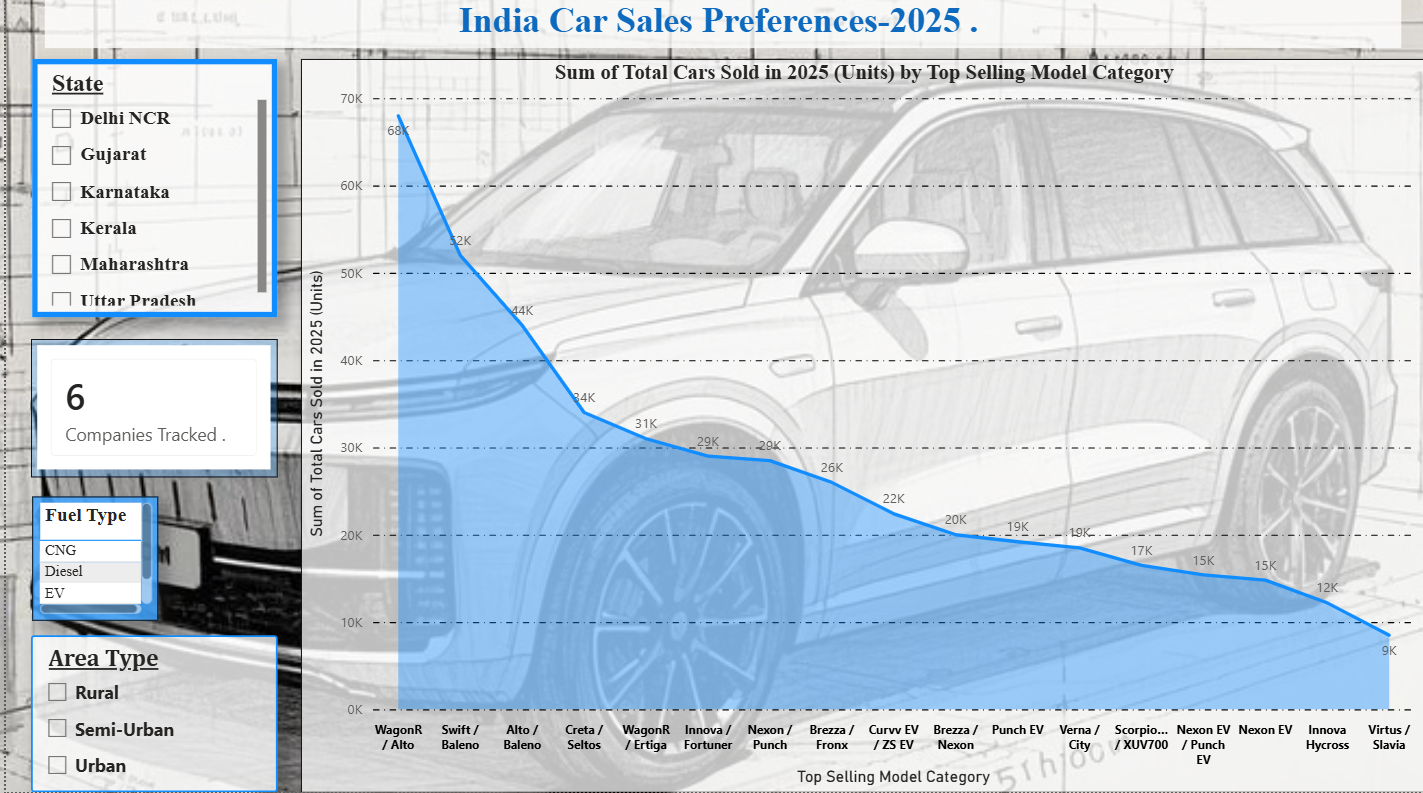

The page's visual inventory and layout, read from the dashboard file:
{"tool":"powerbi","page":{"name":"Page 1","canvas":[1280,720],"ordinal":0},"visuals":[{"type":"slicer","fields":{"Values":["India Car Preferences 2025.State"]},"box":[23.3,58.1,220.9,232.6],"z":0},{"type":"cardVisual","fields":{"Data":["India Car Preferences 2025.number of manufacturing company"]},"box":[22.1,311.6,222.1,124.4],"z":1000},{"type":"tableEx","fields":{"Values":["India Car Preferences 2025.Fuel Type"]},"box":[23.3,453.5,114,111.6],"z":2000},{"type":"areaChart","fields":{"Category":["India Car Preferences 2025.Top Selling Model Category"],"Y":["Sum(India Car Preferences 2025.Total Cars Soldin 2025 (Units))"]},"box":[266.3,58.1,1014,661.6],"z":3000},{"type":"slicer","fields":{"Values":["India Car Preferences 2025.Area Type"]},"box":[22.1,577.9,222.1,141.9],"z":4000},{"type":"textbox","box":[34.9,0,1223.3,48.8],"z":5000}]}

Visuals, with their boxes in screenshot pixels (x1, y1, x2, y2), scaled from the page's 1280x720 canvas onto the 1423x793 screenshot:
slicer - India Car Preferences 2025.State: x1=26, y1=64, x2=271, y2=320
cardVisual - India Car Preferences 2025.number of manufacturing company: x1=25, y1=343, x2=271, y2=480
tableEx - India Car Preferences 2025.Fuel Type: x1=26, y1=499, x2=153, y2=622
areaChart - India Car Preferences 2025.Top Selling Model Category x Sum(India Car Preferences 2025.Total Cars Soldin 2025 (Units)): x1=296, y1=64, x2=1422, y2=792
slicer - India Car Preferences 2025.Area Type: x1=25, y1=636, x2=271, y2=792
textbox: x1=39, y1=0, x2=1399, y2=54
